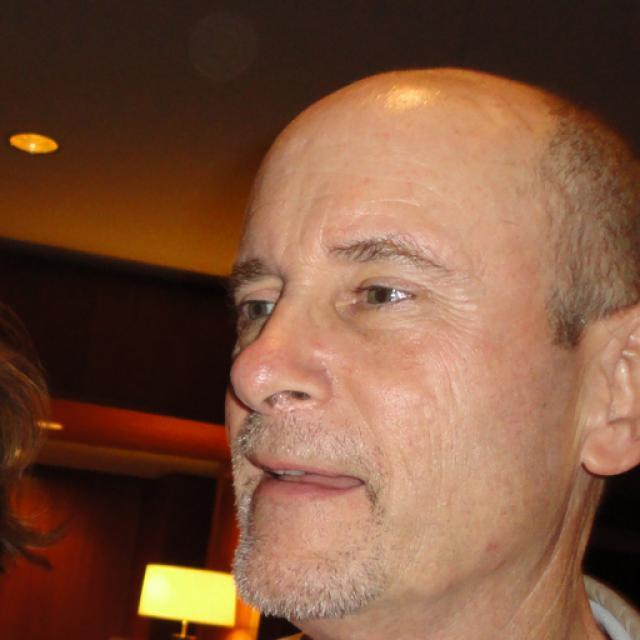Neutral: (224, 89, 586, 622)
